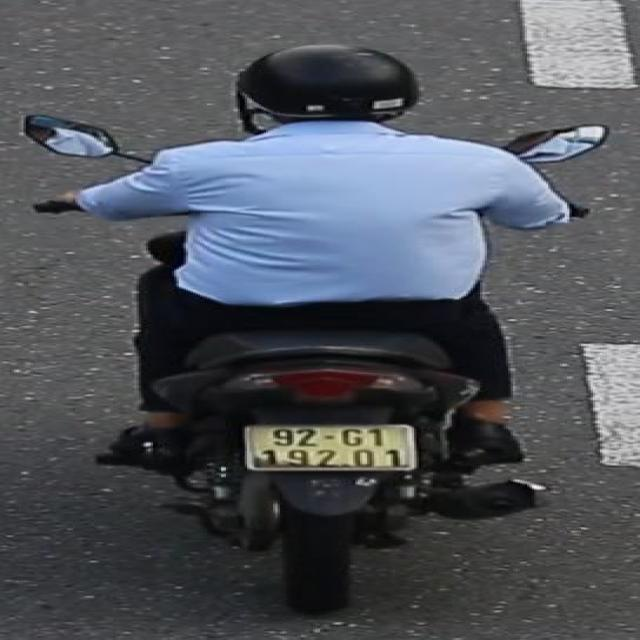LP: (242, 416, 422, 473)
helmet: (224, 40, 431, 143)
